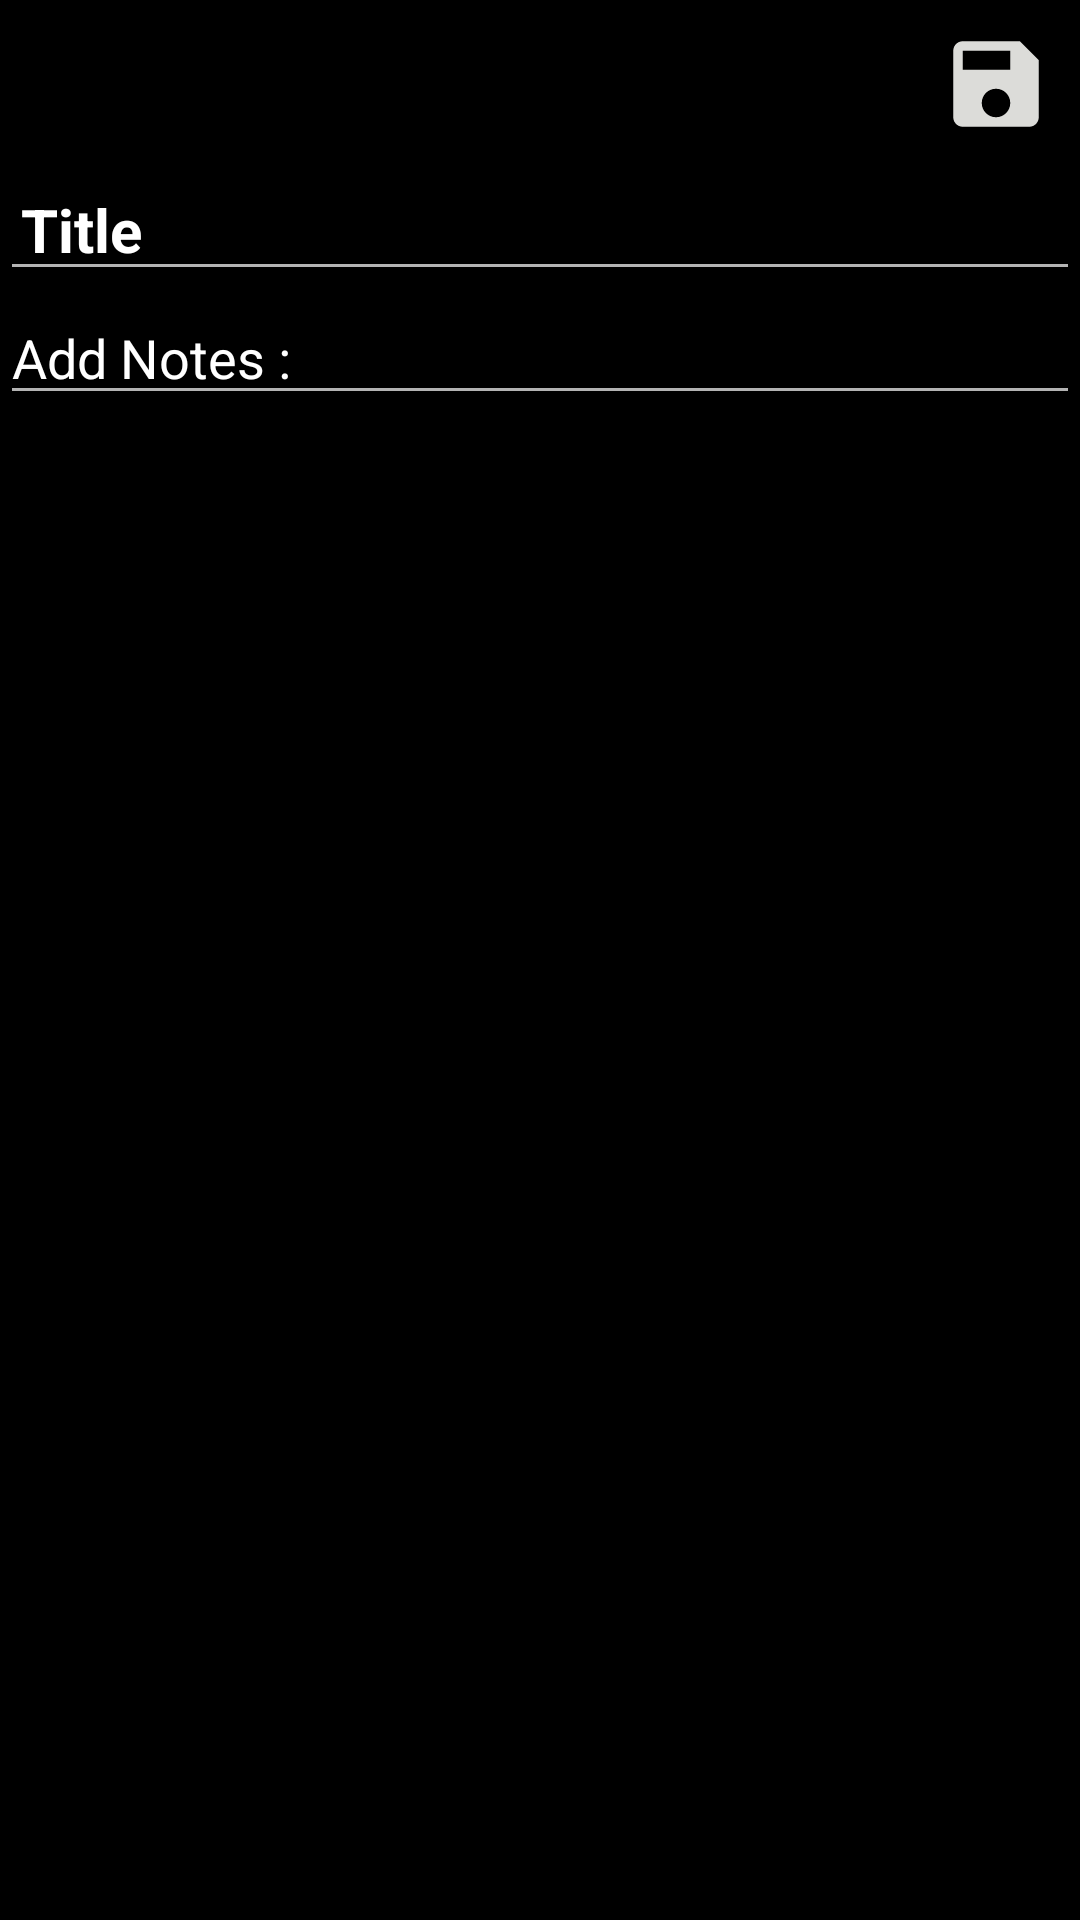

Named icons in this screenshot (1080 x 1920) and their centers, (x,y):
save: (996,84)
